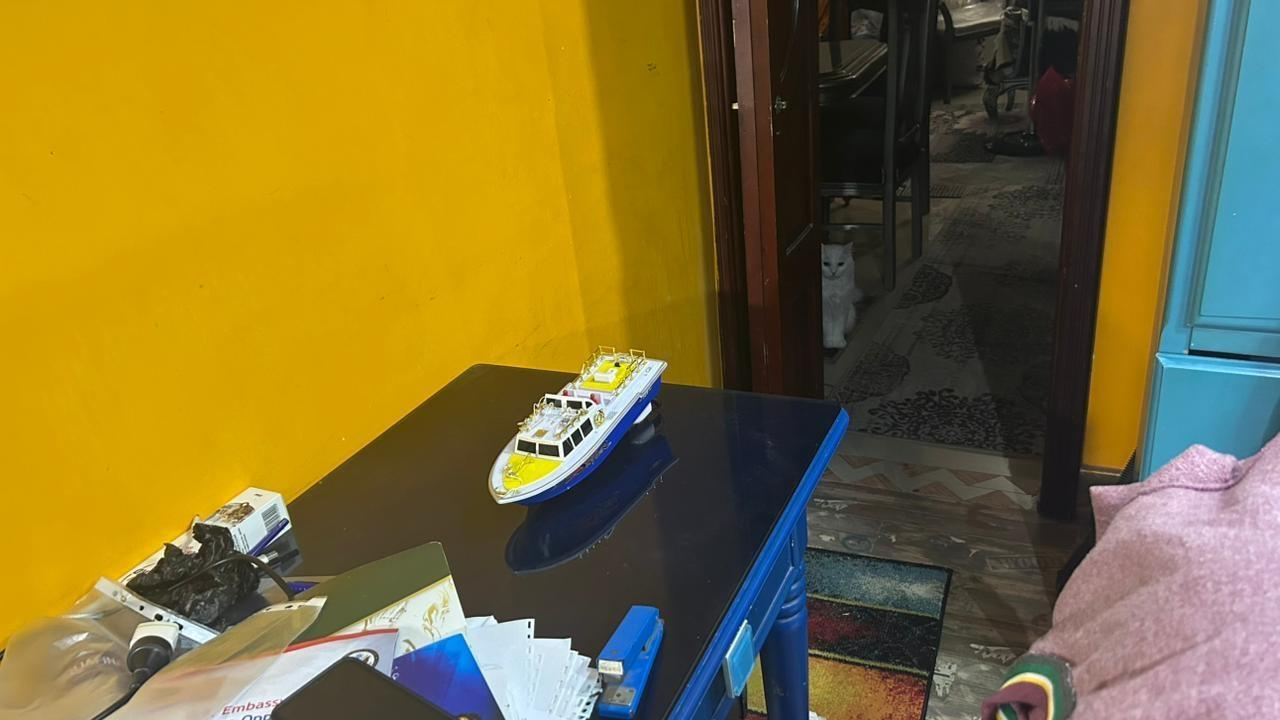Boat: (474, 334, 677, 512)
